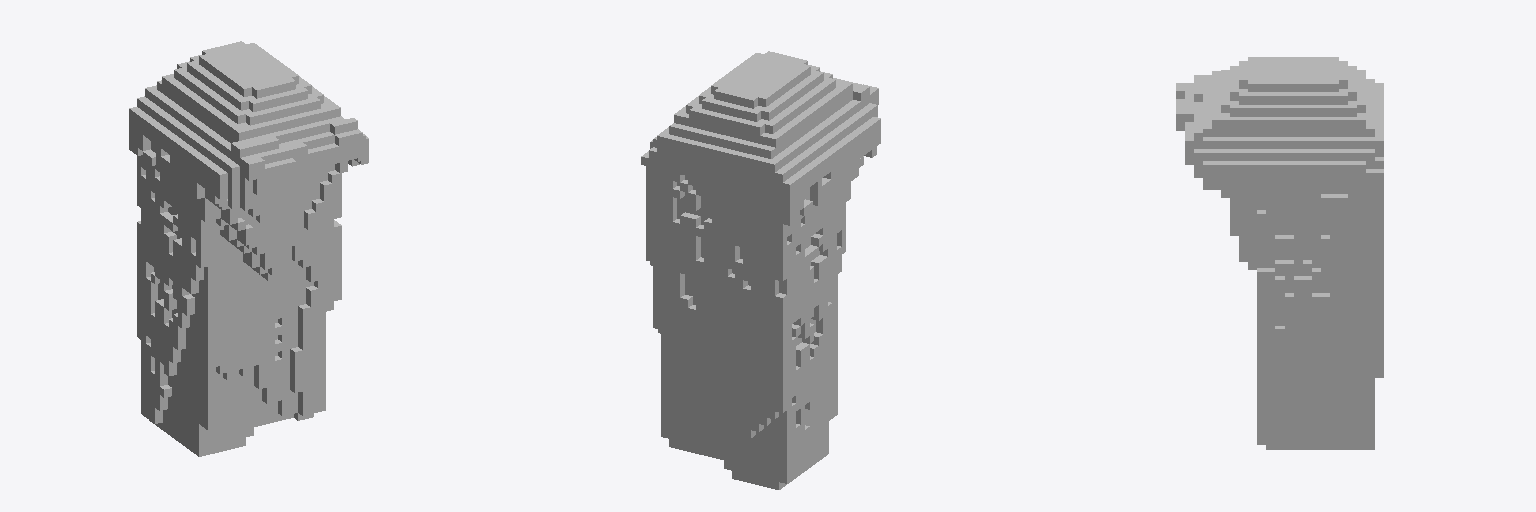
File: Ghost 1.obj
3 renders of one model, left to right at view 1: azimuth 30°, elevation 25°; view 2: azimuth 150°, elevation 25°; view 3: azimuth 270°, elevation 25°, orthographic.
Parts seen in each view (by area): view 1: Ghost; view 2: Ghost; view 3: Ghost.
Boxes of the visible parts, x1=… form: Ghost: x1=129, y1=41, x2=368, y2=456; Ghost: x1=641, y1=51, x2=880, y2=489; Ghost: x1=1176, y1=57, x2=1383, y2=449.
Size of the model in its own units: 19 by 45 by 23.